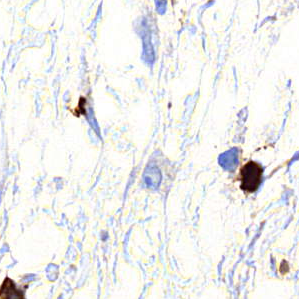Lymphocyte: (239, 161, 265, 194)
